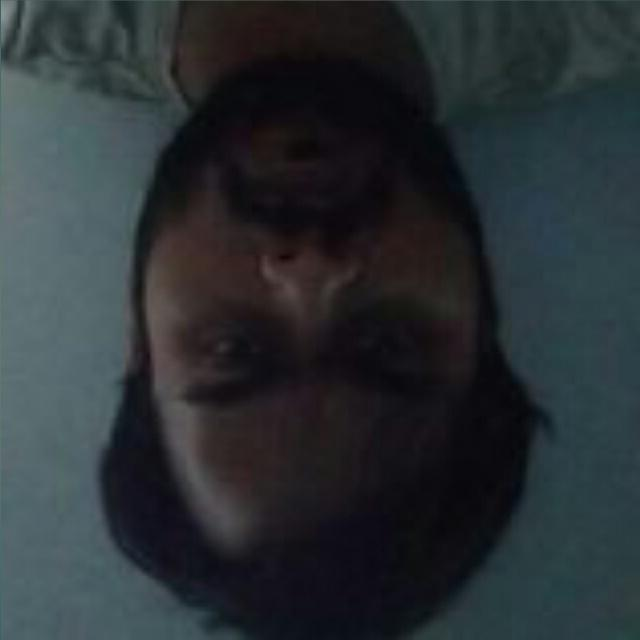Angry: (109, 56, 540, 542)
